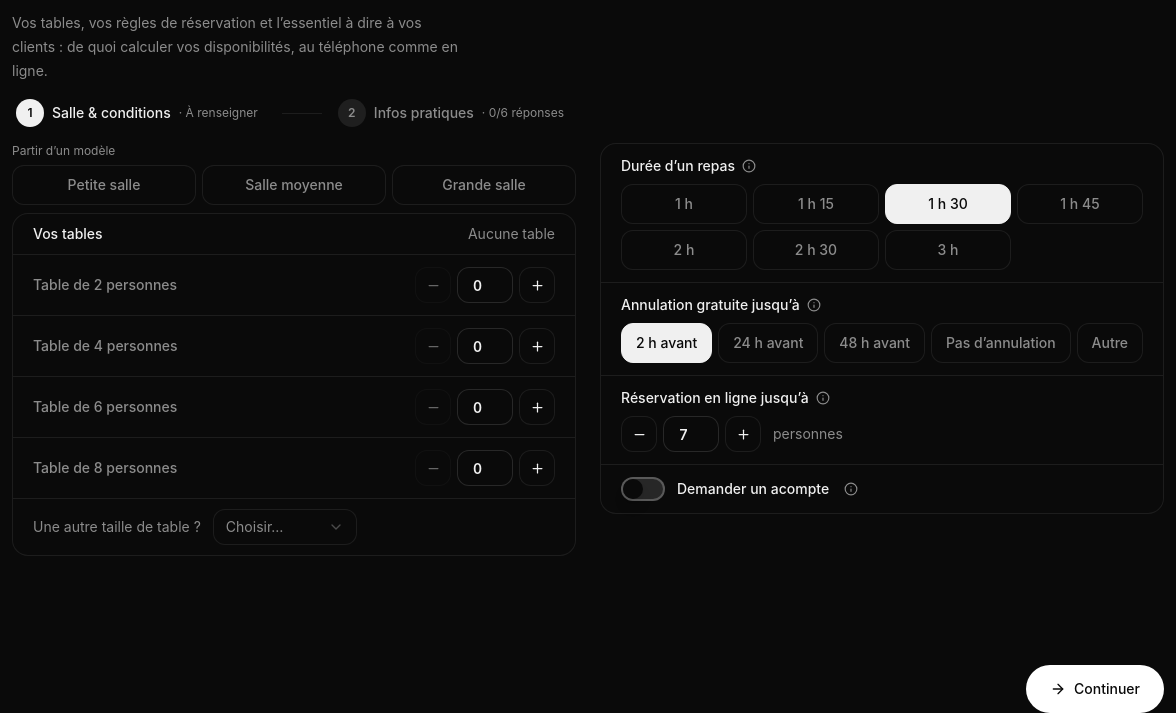
Scenario: refuse de continuer sans table et ne sauvegarde rien
(page scrolled)
expect the button "1 Salle & conditions · À renseigner" is shown: met, box [12,95,270,131]
Click the button "Continuer".
click(1095, 689)  # box [1026,665,1164,712]
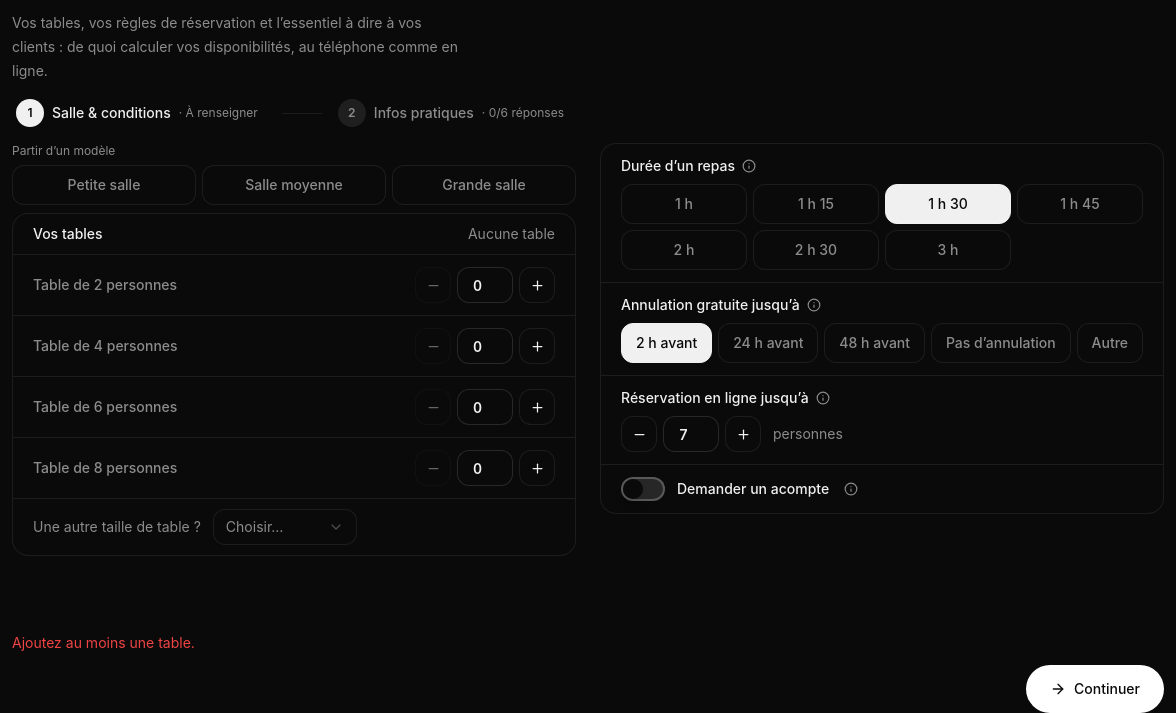
expect the message shows "Ajoutez au moins une table": met, box [12,634,195,651]
